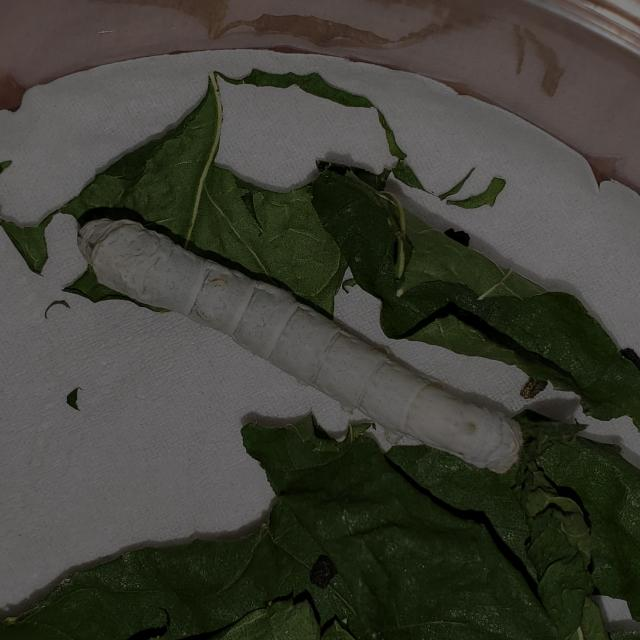Healthy: (40, 147, 532, 530)
